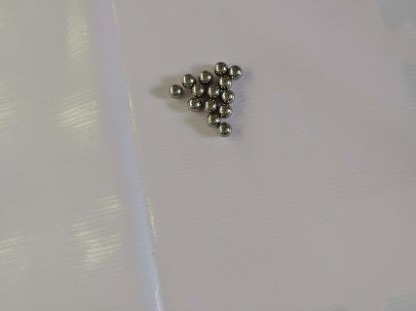ironball: (186, 96, 201, 110), (198, 69, 212, 83), (216, 103, 230, 117), (218, 121, 231, 135), (229, 64, 242, 77), (217, 75, 230, 88), (206, 85, 219, 98), (182, 72, 194, 86), (221, 88, 233, 102), (168, 84, 181, 96), (214, 61, 227, 73), (191, 84, 204, 96), (207, 114, 220, 125), (204, 101, 216, 112)
